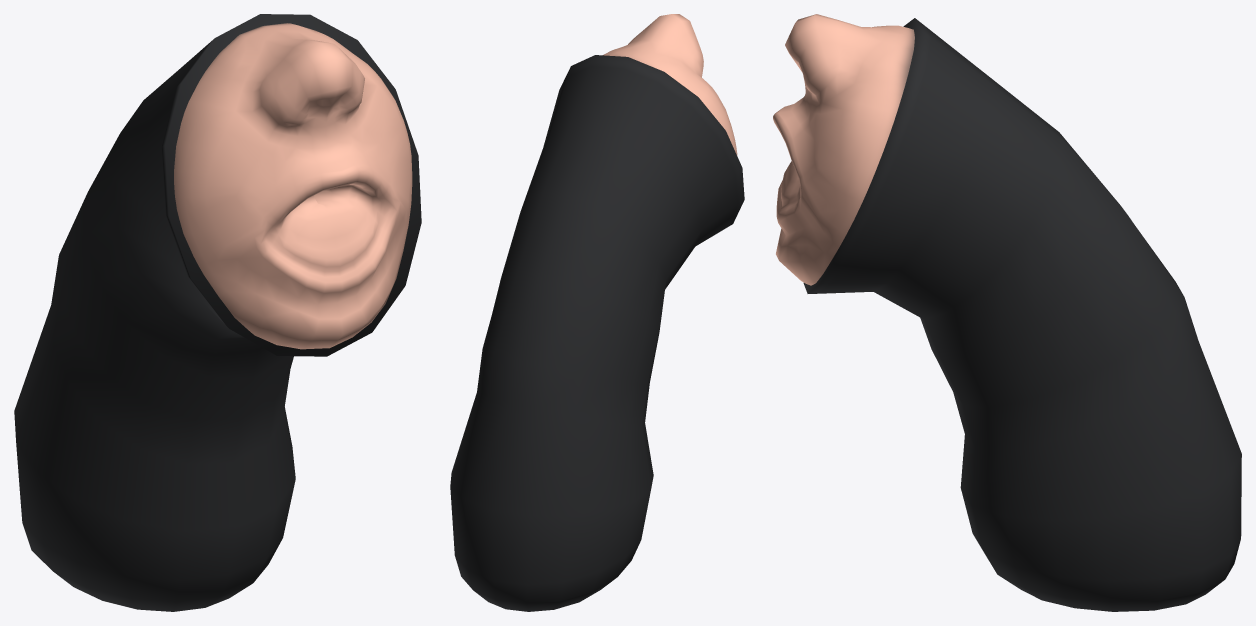
Rendered from Mouth.fbx.
3 renders of one model, left to right at view 1: azimuth 30°, elevation 25°; view 2: azimuth 150°, elevation 25°; view 3: azimuth 270°, elevation 25°, orthographic. The views are drawn at different scales.
Visible parts, largest first — view 1: Boquinha; view 2: Boquinha; view 3: Boquinha.
Part boxes in pixels (bbox=[...]): Boquinha: bbox=[14, 14, 421, 611]; Boquinha: bbox=[450, 14, 744, 611]; Boquinha: bbox=[773, 14, 1241, 611].
Size of the model in its own units: 8.81 by 22.35 by 16.54.
Materials: 1 (1 with a texture image).
